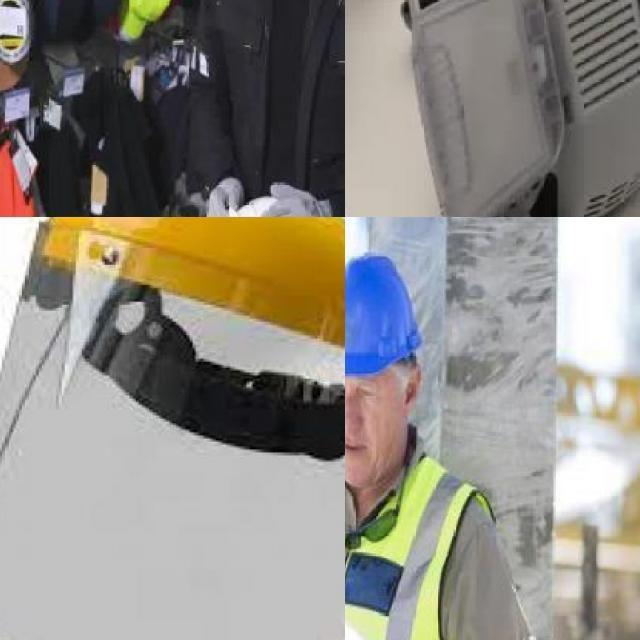apron: (258, 180, 332, 217), (204, 178, 244, 217)
